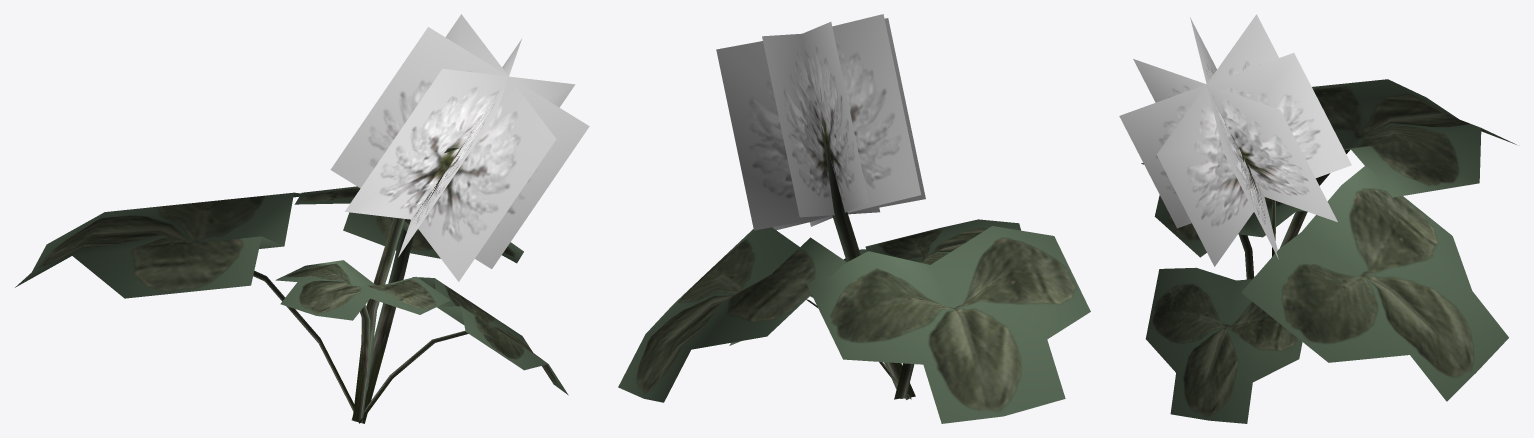
Rendered from veg_clovers_white_02_scaled.fbx.
The picture shows the model from 3 angles, left to right: view 1: azimuth 30°, elevation 25°; view 2: azimuth 150°, elevation 25°; view 3: azimuth 270°, elevation 25°; orthographic projection. The views are drawn at different scales.
Visible parts, largest first — view 1: veg_clovers_white_02; view 2: veg_clovers_white_02; view 3: veg_clovers_white_02.
Part boxes in pixels (box(x1,y1,x2,y2)): veg_clovers_white_02: box(15, 14, 589, 423); veg_clovers_white_02: box(618, 14, 1090, 423); veg_clovers_white_02: box(1119, 14, 1516, 423).
Bounding box in the file's own units: 3.86 × 3.01 × 2.97.
